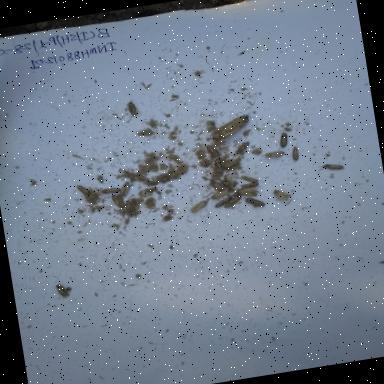pbw: (319, 158, 348, 174), (185, 198, 210, 215), (52, 280, 72, 300), (274, 128, 294, 148), (271, 186, 293, 204), (244, 194, 267, 211), (122, 98, 140, 119), (232, 138, 253, 156), (222, 192, 244, 208), (220, 172, 237, 192), (263, 146, 286, 160), (238, 171, 261, 185), (211, 154, 227, 174), (204, 141, 221, 159), (72, 182, 93, 196), (211, 195, 232, 209), (222, 156, 242, 170), (287, 144, 302, 162), (109, 194, 125, 210), (117, 181, 133, 197), (209, 189, 230, 201), (122, 196, 136, 214), (237, 180, 261, 190), (236, 186, 256, 198), (100, 184, 121, 194), (210, 178, 222, 192)
